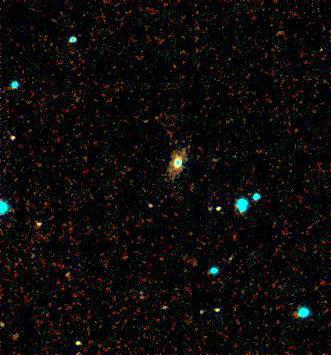star: (56, 261, 86, 291)
